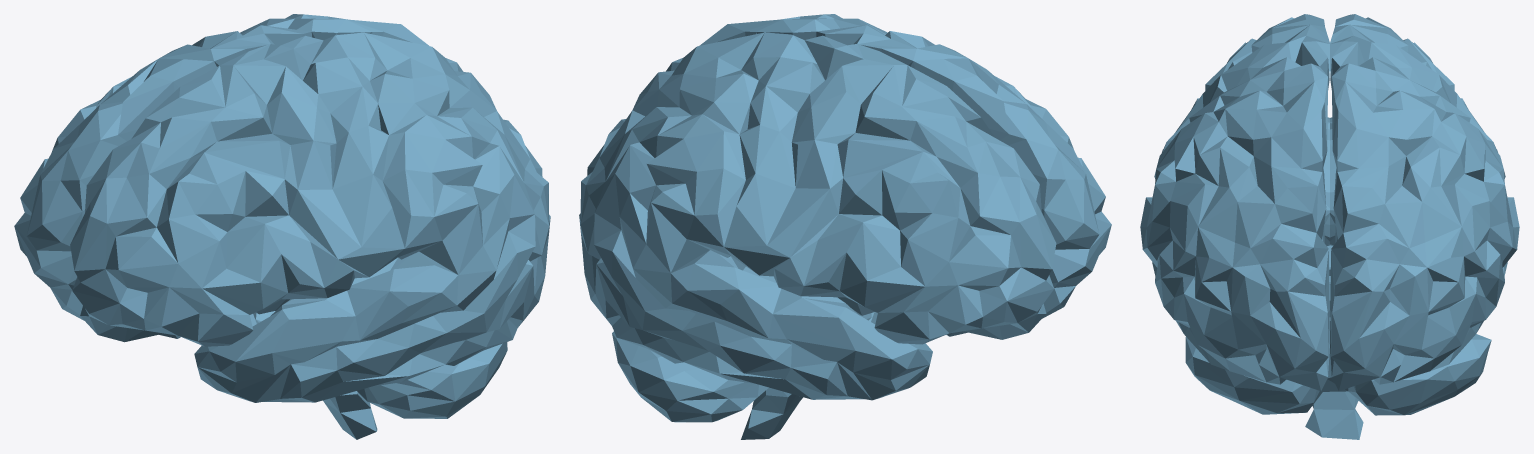
The model's file is Brain.gltf.
3 views of the same model, side by side, from view 1: azimuth 30°, elevation 25°; view 2: azimuth 150°, elevation 25°; view 3: azimuth 270°, elevation 25° (orthographic). The views are drawn at different scales.
Parts seen in each view (by area): view 1: node-0; view 2: node-0; view 3: node-0.
Part boxes in pixels (x1=…): node-0: x1=14, y1=14, x2=550, y2=439; node-0: x1=579, y1=14, x2=1111, y2=439; node-0: x1=1140, y1=14, x2=1519, y2=439.
Size of the model in its own units: 214 by 180 by 172.
